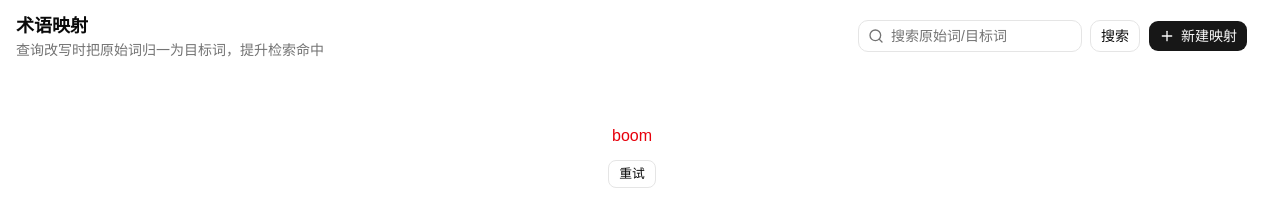
TermMappingPage › 失败显示错误态并可重试
Expected: the message shows "boom", [612,127,652,144]
Step 1. Click the button "重试" → (632, 174), box [608,160,656,188]
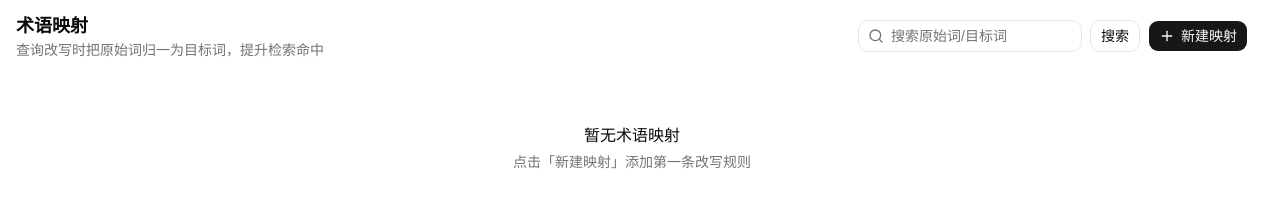
Expected: the text "暂无术语映射" is shown, [584,124,680,148]
